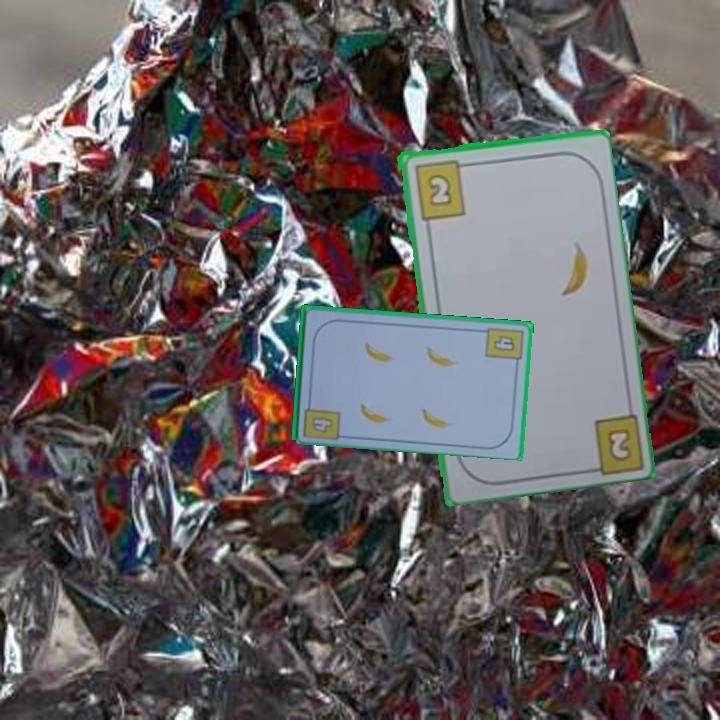2b: (410, 156, 472, 222), (606, 428, 631, 461)
4b: (482, 323, 526, 369), (308, 412, 336, 435)
